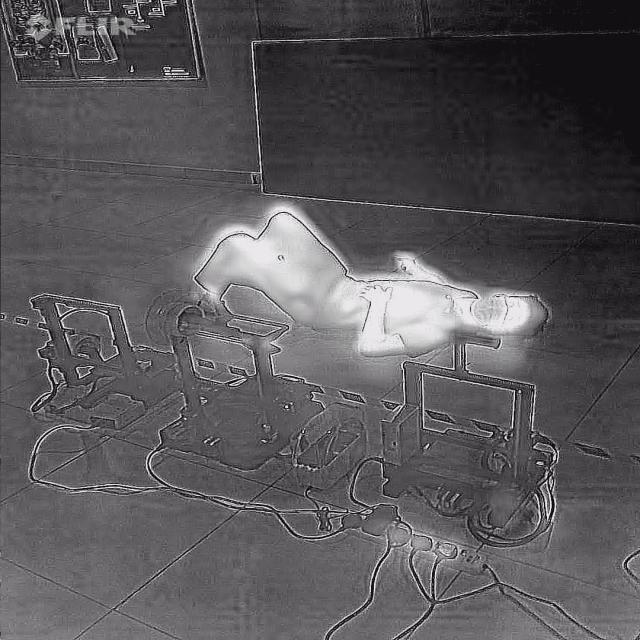Victim: (167, 202, 566, 358)
